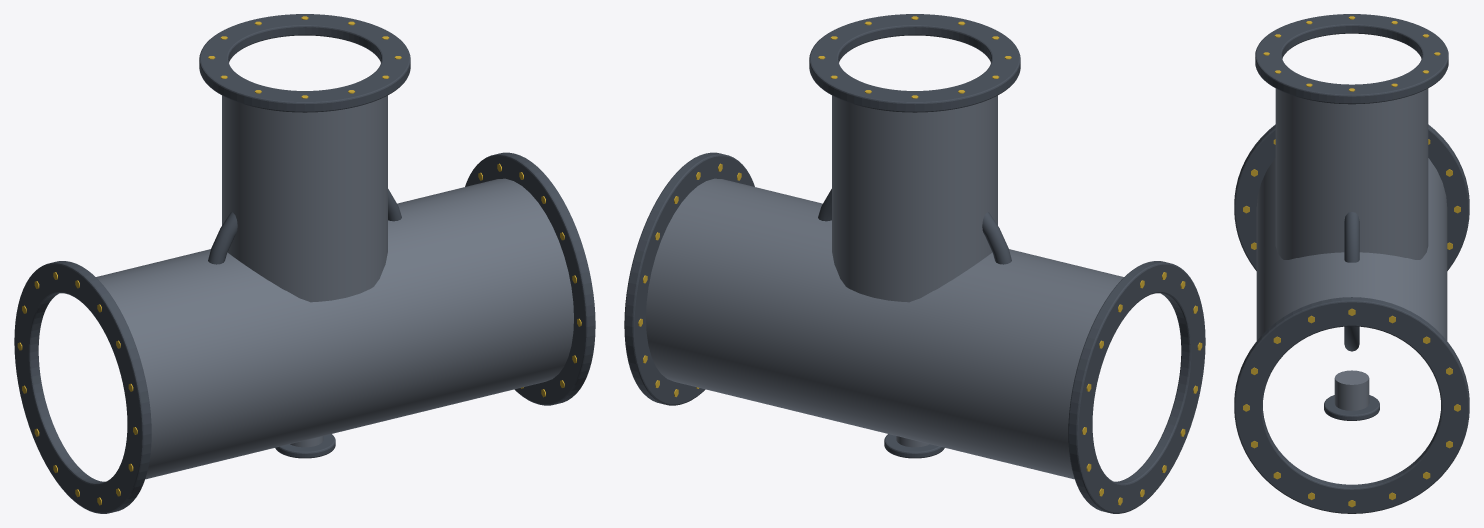
Rendered from t_shape_junction_duct.glb.
The picture shows the model from 3 angles, left to right: view 1: azimuth 30°, elevation 25°; view 2: azimuth 150°, elevation 25°; view 3: azimuth 270°, elevation 25°; orthographic projection. The views are drawn at different scales.
Visible parts, largest first — view 1: TShapedJunctionDuct; view 2: TShapedJunctionDuct; view 3: TShapedJunctionDuct.
Boxes of the visible parts, x1,y1,x2,y2 form: TShapedJunctionDuct: (14,14,595,513); TShapedJunctionDuct: (624,14,1205,513); TShapedJunctionDuct: (1234,14,1469,513).
Bounding box in the file's own units: 5.05 × 4.16 × 2.47.
